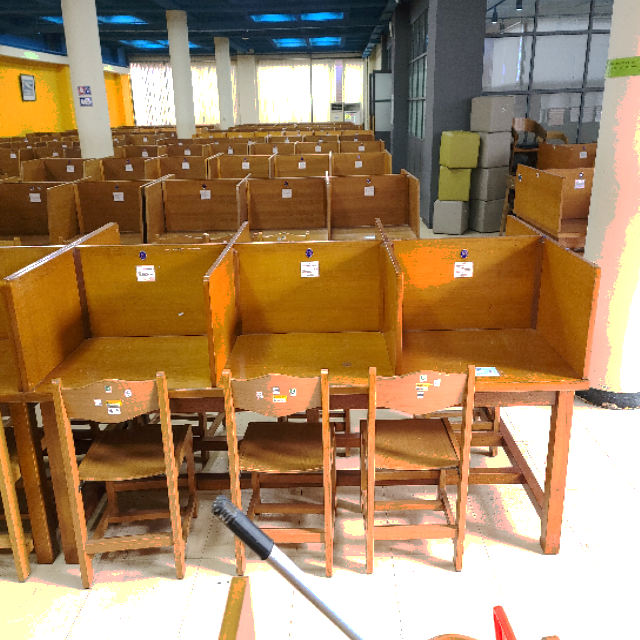empty: (16, 249, 212, 460), (216, 254, 401, 467), (408, 250, 589, 463)
